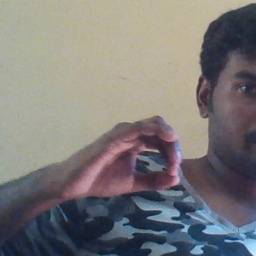O: (56, 112, 185, 200)
